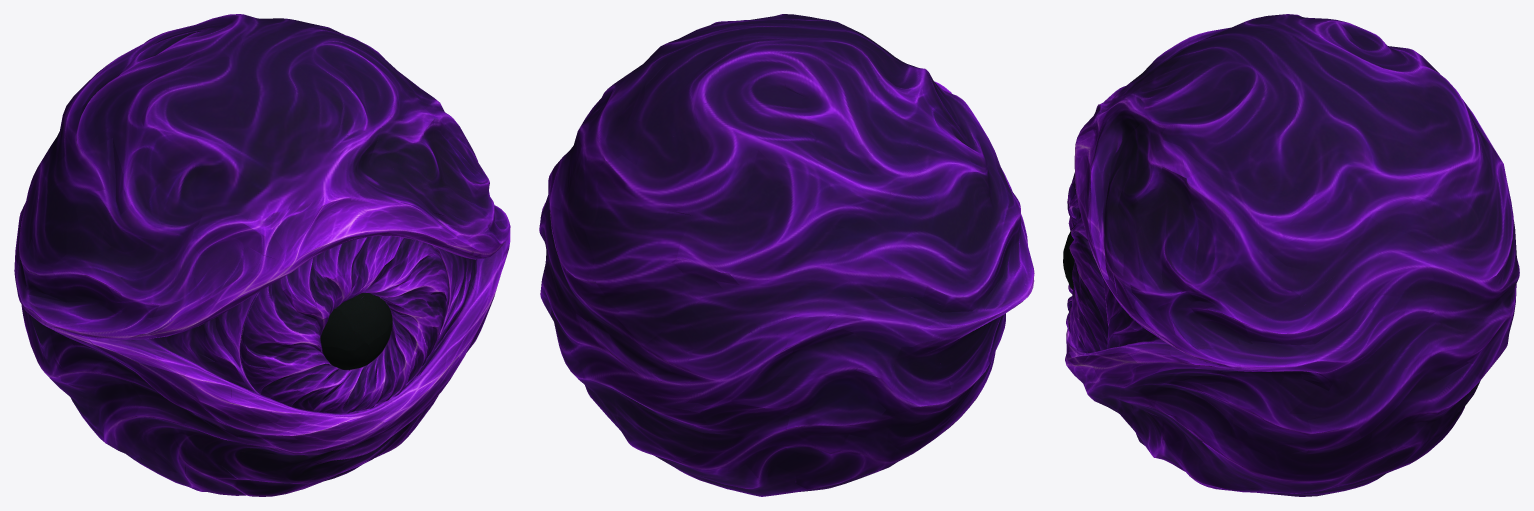
Rendered from eye-original.glb.
3 views of the same model, side by side, from view 1: azimuth 30°, elevation 25°; view 2: azimuth 150°, elevation 25°; view 3: azimuth 270°, elevation 25° (orthographic).
Visible parts, largest first — view 1: output_unwrapped; view 2: output_unwrapped; view 3: output_unwrapped.
Part boxes in pixels (bbox=[...]): output_unwrapped: bbox=[14, 14, 510, 496]; output_unwrapped: bbox=[539, 14, 1034, 496]; output_unwrapped: bbox=[1063, 14, 1519, 496].
Bounding box in the file's own units: 1.89 × 1.71 × 1.62.
Materials: 1 (1 with a texture image).
